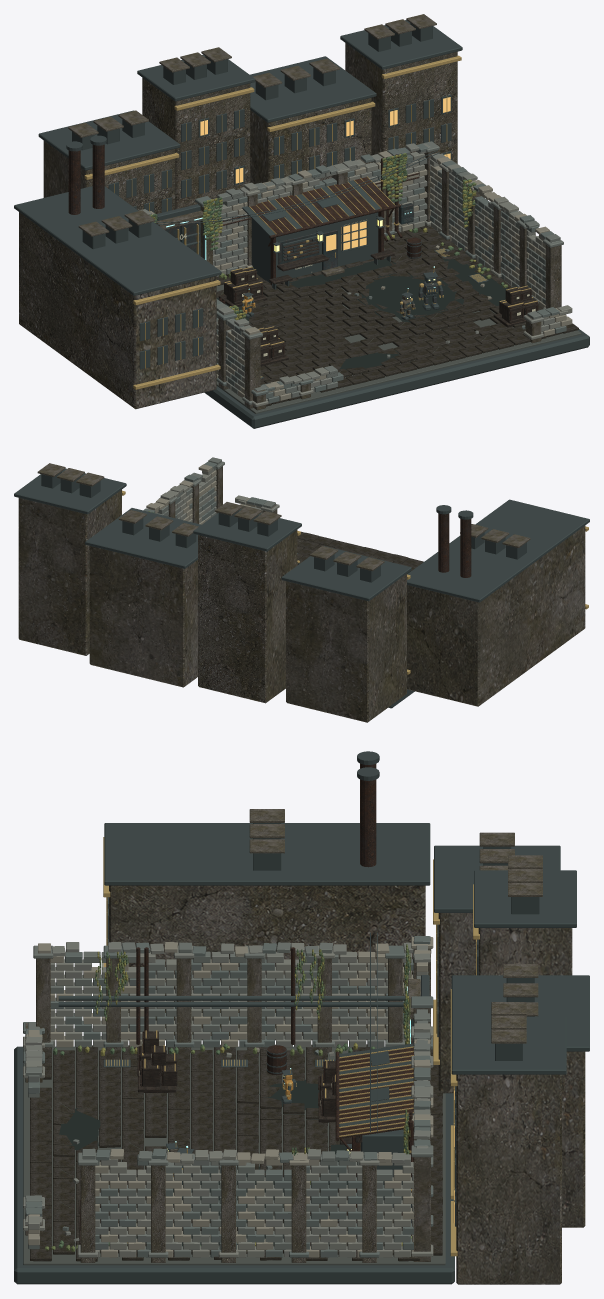
The model's file is rain-court.gltf.
3 views of the same model, one above another, from view 1: azimuth 30°, elevation 25°; view 2: azimuth 150°, elevation 25°; view 3: azimuth 270°, elevation 25° (orthographic). The views are drawn at different scales.
Visible parts, largest first — view 1: Foundry block 4, Foundry roof overhang.004, Foundry block 3, Foundry block 1, Foundation | exposed diorama plinth, Foundry block 2, Foundry block 0, Foundry roof overhang.002, Kiosk shell, Foundry roof overhang, Subgrade | mortar, Foundry roof overhang.003 (+12 smaller); view 2: Foundry block 4, Foundry block 0, Foundry block 1, Foundry block 2, Foundry block 3, Foundry roof overhang.004, Foundry roof overhang.002, Foundry roof overhang, Foundry roof overhang.003, Foundry roof overhang.001, Boiler exhaust chimney.001, Boiler exhaust chimney; view 3: Foundry block 3, Foundry block 4, Foundry roof overhang.004, Foundation | exposed diorama plinth, Subgrade | mortar, Foundry roof overhang.003, Foundry roof overhang.002, Foundry roof overhang.001, Foundry block 2, Foundry block 1, Foundry block 0, Foundry roof overhang (+18 smaller).
Boxes of the visible parts, x1,y1,x2,y2 form: Foundry block 4: [19, 212, 216, 409]; Foundry roof overhang.004: [14, 186, 221, 295]; Foundry block 3: [345, 43, 457, 163]; Foundry block 1: [142, 78, 250, 209]; Foundation | exposed diorama plinth: [204, 329, 589, 428]; Foundry block 2: [250, 97, 371, 183]; Foundry block 0: [43, 140, 175, 213]; Foundry roof overhang.002: [250, 56, 376, 122]; Kiosk shell: [251, 212, 378, 283]; Foundry roof overhang: [38, 110, 180, 170]; Subgrade | mortar: [216, 232, 581, 413]; Foundry roof overhang.003: [340, 20, 462, 69]; Foundry block 4: [407, 525, 585, 706]; Foundry block 0: [286, 574, 406, 722]; Foundry block 1: [198, 530, 297, 703]; Foundry block 2: [89, 546, 197, 687]; Foundry block 3: [18, 490, 121, 655]; Foundry roof overhang.004: [407, 499, 589, 602]; Foundry roof overhang.002: [85, 508, 201, 568]; Foundry roof overhang: [281, 546, 411, 601]; Foundry roof overhang.003: [14, 468, 126, 514]; Foundry roof overhang.001: [193, 508, 301, 551]; Boiler exhaust chimney.001: [438, 513, 449, 572]; Boiler exhaust chimney: [460, 519, 471, 577]; Foundry block 3: [456, 1074, 561, 1284]; Foundry block 4: [109, 885, 425, 1040]; Foundry roof overhang.004: [104, 823, 430, 885]; Foundation | exposed diorama plinth: [14, 1046, 454, 1284]; Subgrade | mortar: [23, 1047, 445, 1265]; Foundry roof overhang.003: [451, 1017, 566, 1074]; Foundry roof overhang.002: [451, 975, 589, 1051]; Foundry roof overhang.001: [474, 870, 576, 927]; Foundry block 2: [562, 1051, 585, 1227]; Foundry block 1: [478, 928, 572, 975]; Foundry block 0: [438, 913, 475, 1093]; Foundry roof overhang: [434, 845, 560, 912].
Size of the model in its own units: 30.55 by 12.88 by 24.55.
Materials: 22 (5 with a texture image).
